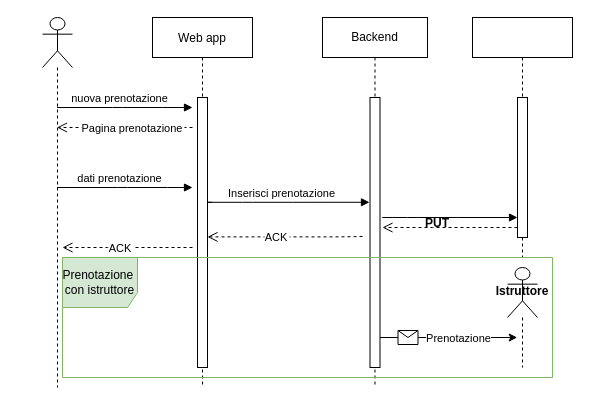
This 590x405 diagram has some shape labels left out. The shapes that lost their labels are listed below. From the top down, each one's box as (x1, y1, x2, y2) in pixels, then its label:
(472, 16, 572, 258): DataBase
(42, 16, 72, 388): User
